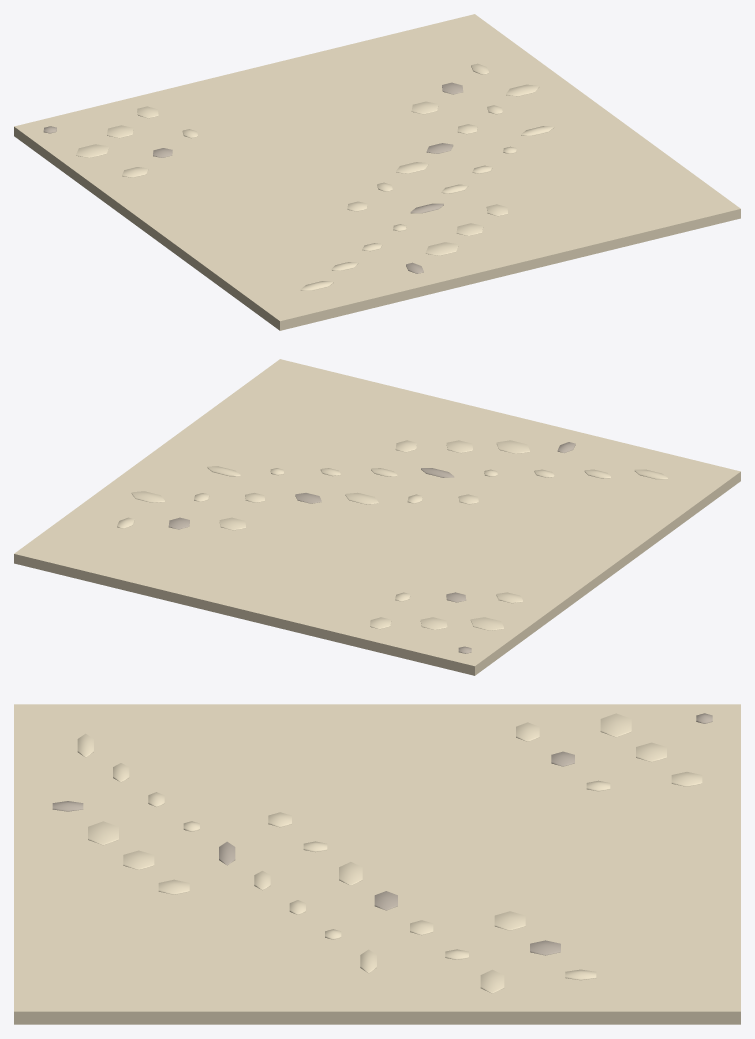
File: desert-ground-modu-a40ac79c.glb
The picture shows the model from 3 angles, top to bottom: view 1: azimuth 30°, elevation 25°; view 2: azimuth 150°, elevation 25°; view 3: azimuth 270°, elevation 25°; orthographic projection. The views are drawn at different scales.
Visible parts, largest first — view 1: desert-ground-module; view 2: desert-ground-module; view 3: desert-ground-module.
Boxes of the visible parts, box(x1,y1,x2,y2) form: desert-ground-module: box(14, 14, 740, 330); desert-ground-module: box(14, 359, 740, 675); desert-ground-module: box(14, 704, 740, 1024).
Bounding box in the file's own units: 6 × 0.1553 × 6.
